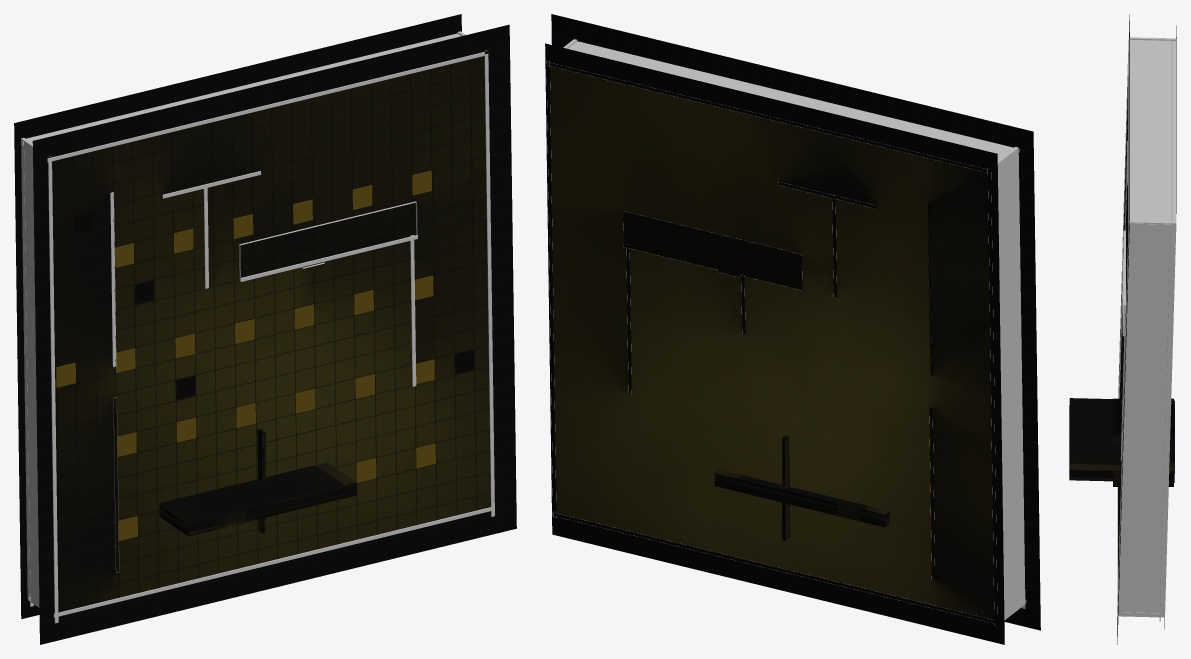
File: backroom.obj
3 views of the same model, side by side, from view 1: azimuth 30°, elevation 25°; view 2: azimuth 150°, elevation 25°; view 3: azimuth 270°, elevation 25° (orthographic). The views are drawn at different scales.
Parts seen in each view (by area): view 1: Ceiling, Air_Vent.005, BackWall_Double_BR.028, Carpet_v1.001, Cube.001; view 2: Carpet_v1.001, Ceiling, BackWall_Double_BR.028, Cube.001, Air_Vent.005, Cube; view 3: BackWall_Double_BR.028, Cube.001, Air_Vent.005, Ceiling, Cube, Carpet_v1.001.
Boxes of the visible parts, x1=… form: Ceiling: x1=33, y1=25, x2=516, y2=644; Air_Vent.005: x1=32, y1=25, x2=516, y2=644; BackWall_Double_BR.028: x1=21, y1=31, x2=494, y2=623; Carpet_v1.001: x1=14, y1=14, x2=461, y2=619; Cube.001: x1=159, y1=462, x2=357, y2=536; Carpet_v1.001: x1=545, y1=43, x2=1004, y2=644; Ceiling: x1=551, y1=14, x2=1040, y2=630; BackWall_Double_BR.028: x1=546, y1=39, x2=1026, y2=624; Cube.001: x1=714, y1=469, x2=889, y2=527; Air_Vent.005: x1=551, y1=14, x2=1040, y2=630; Cube: x1=782, y1=435, x2=790, y2=540; BackWall_Double_BR.028: x1=1117, y1=37, x2=1176, y2=621; Cube.001: x1=1069, y1=398, x2=1174, y2=482; Air_Vent.005: x1=1117, y1=14, x2=1129, y2=644; Ceiling: x1=1117, y1=26, x2=1129, y2=636; Cube: x1=1113, y1=398, x2=1173, y2=486; Carpet_v1.001: x1=1164, y1=26, x2=1176, y2=628.
Bounding box in the file's own units: 21.89 × 21.88 × 4.94.
Materials: 10 (4 with a texture image).
